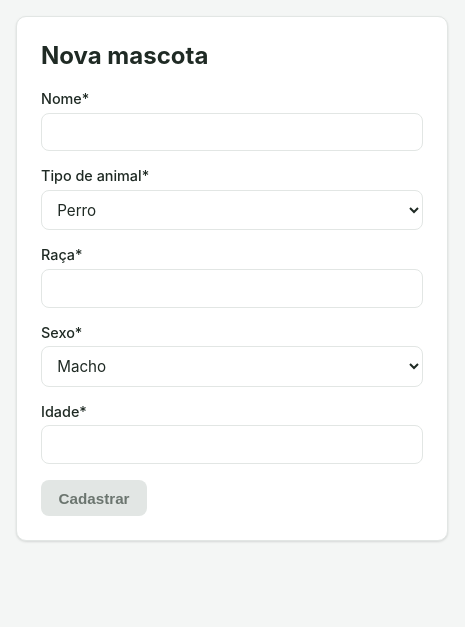
Test: NovaMascotaPage › cadastra a mascota e exibe mensagem de sucesso
Expected: the heading "Nova mascota" is shown, [41,41,208,70]
Type "Rex" into the field labelled "Nome*" at coordinates (232, 132), box [41,113,423,151]
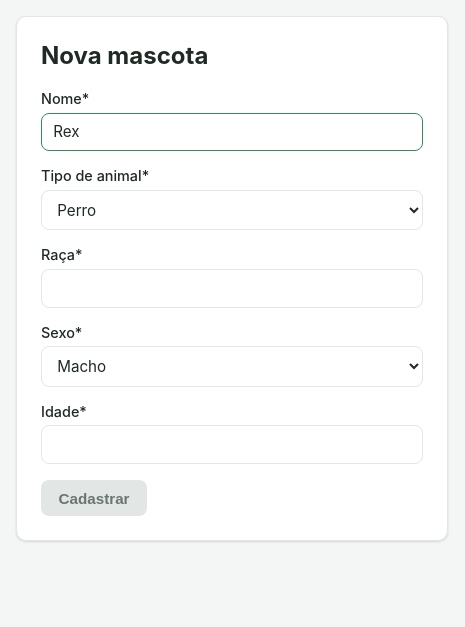
Type "Labrador" into the field labelled "Raça*" at coordinates (232, 288), box [41,269,423,308]
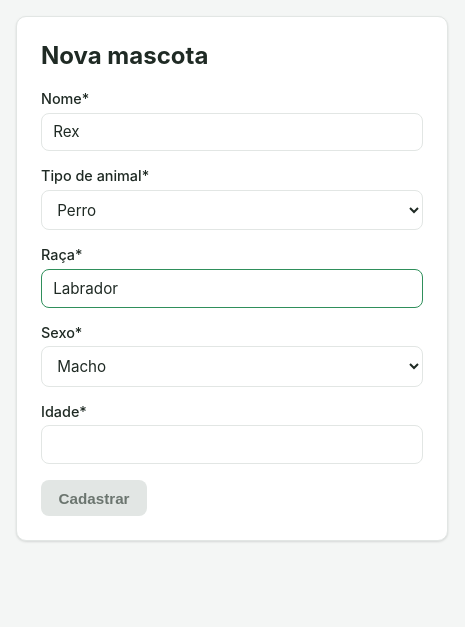
Type "3" into the number field labelled "Idade*" at coordinates (232, 445), box [41,425,423,464]
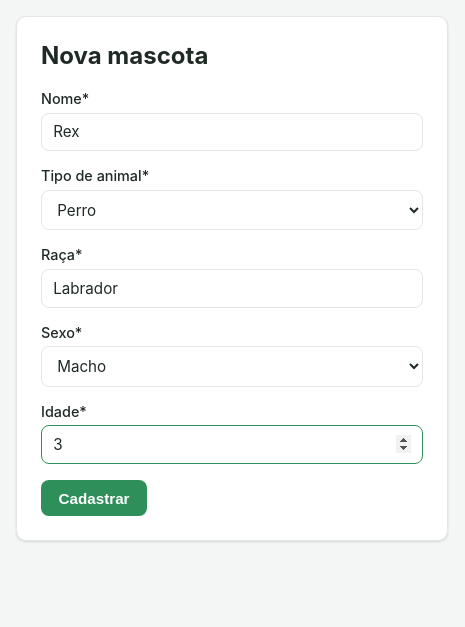
Click the button "Cadastrar" at coordinates (94, 498), box [41,480,147,516]
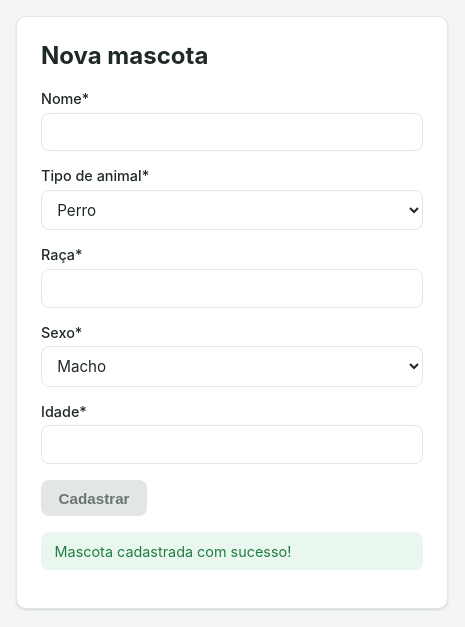
Expected: the text "Mascota cadastrada com sucesso!" is shown, [41,532,423,570]
